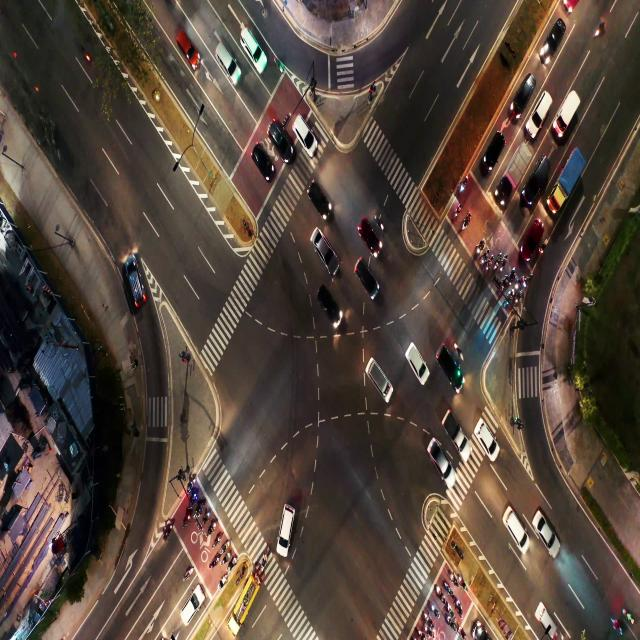bus: (237, 590, 255, 615)
car: (277, 505, 293, 560), (293, 114, 314, 146), (128, 257, 141, 308), (253, 146, 271, 182), (178, 595, 200, 622), (317, 232, 333, 268), (245, 30, 261, 61), (184, 33, 198, 66), (273, 128, 291, 152), (550, 27, 565, 50), (218, 48, 230, 76), (436, 449, 449, 472), (508, 518, 523, 536), (315, 187, 326, 211), (323, 291, 335, 313), (443, 356, 455, 376), (482, 425, 492, 449), (407, 351, 421, 367), (367, 363, 380, 380), (362, 226, 372, 248), (360, 268, 371, 288), (525, 231, 539, 245), (542, 525, 551, 542), (488, 145, 497, 162), (542, 614, 551, 630), (518, 90, 526, 105), (536, 168, 542, 188), (537, 105, 544, 120)
motorcycle: (454, 342, 468, 364), (622, 607, 634, 623), (611, 615, 621, 633), (260, 554, 269, 572), (376, 218, 386, 232), (164, 522, 171, 541), (452, 619, 460, 632), (448, 605, 454, 622), (426, 611, 432, 627), (460, 178, 466, 194), (455, 204, 461, 220), (212, 537, 220, 548), (434, 588, 442, 599), (524, 274, 530, 287), (185, 514, 191, 526), (478, 238, 482, 256), (219, 573, 224, 587), (209, 522, 215, 533), (454, 598, 460, 609), (482, 252, 487, 264), (510, 268, 515, 280), (464, 217, 468, 231), (196, 503, 201, 514), (417, 627, 422, 638), (517, 276, 522, 287), (496, 254, 500, 267), (192, 493, 197, 503), (461, 577, 466, 587), (448, 582, 452, 594), (502, 276, 506, 288), (516, 292, 520, 304), (221, 542, 226, 551), (453, 576, 458, 585), (434, 606, 439, 615), (488, 259, 492, 270), (188, 568, 192, 578), (204, 512, 208, 522), (425, 628, 430, 636), (502, 256, 506, 266), (542, 242, 546, 252), (212, 557, 216, 566), (228, 563, 233, 570), (223, 556, 227, 563), (508, 292, 511, 300), (190, 482, 193, 488)
truck: (452, 418, 464, 445), (512, 159, 522, 179), (567, 165, 574, 193), (562, 107, 572, 125)
